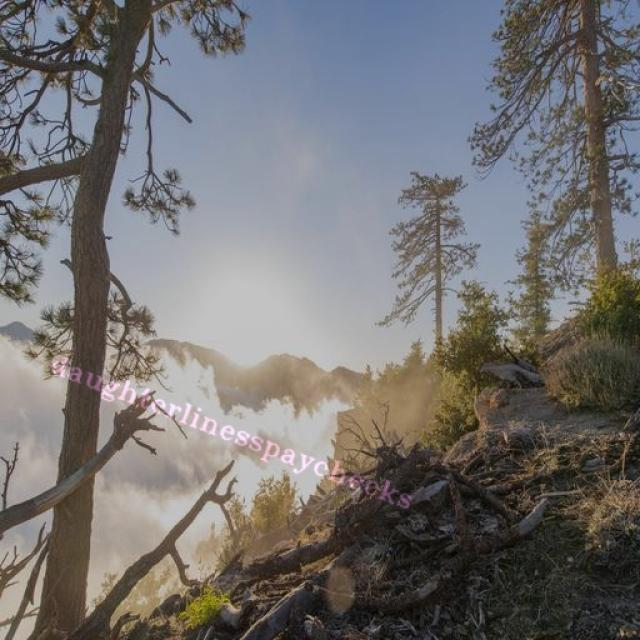watermark: (40, 349, 429, 514)
